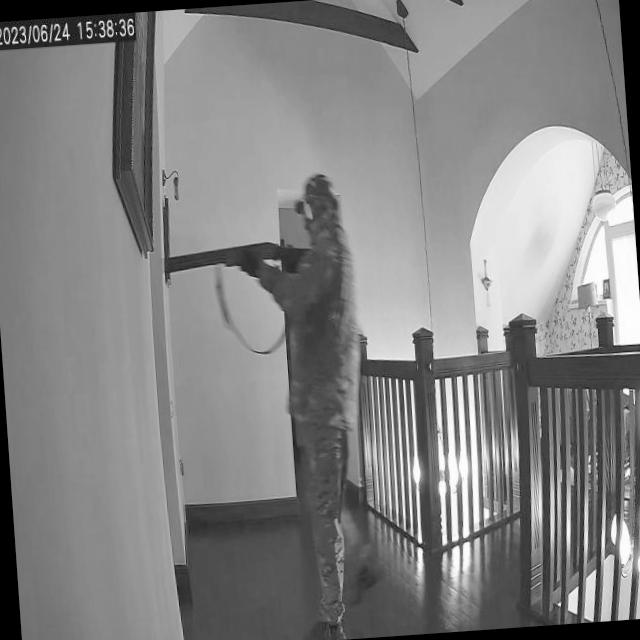gun: (165, 237, 308, 276)
person with a gun: (159, 171, 384, 640)
